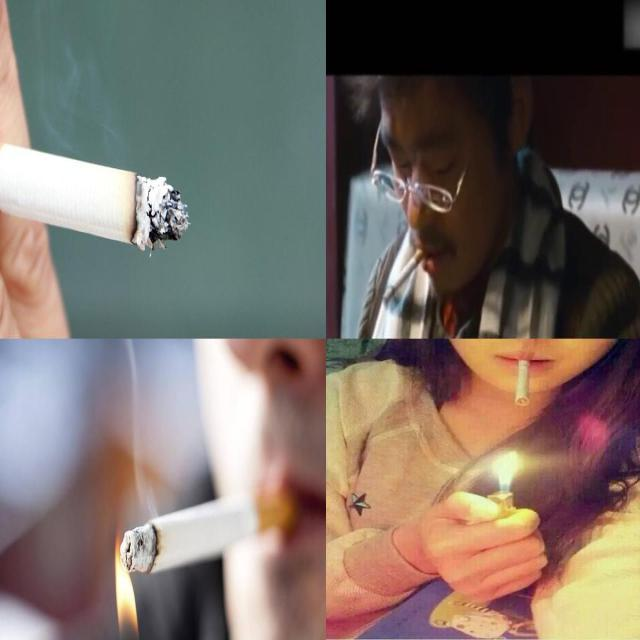smoking: (0, 104, 192, 259), (120, 487, 299, 573), (382, 248, 426, 304), (514, 358, 532, 406)
